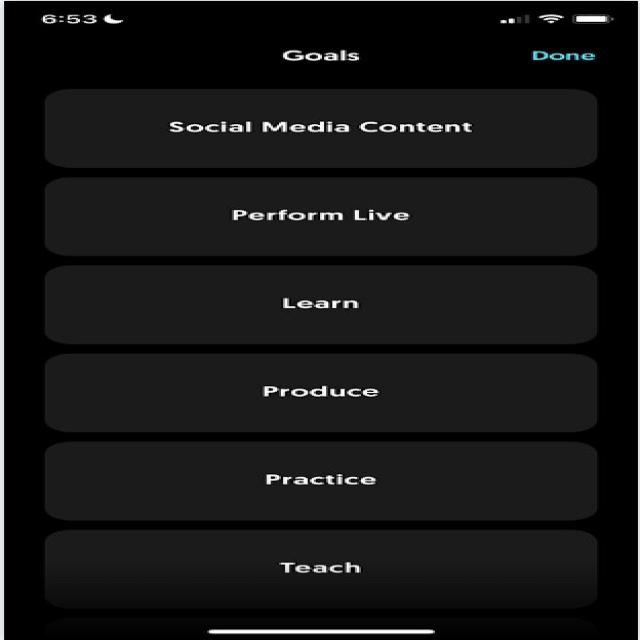column: (14, 80, 626, 640)
row: (24, 522, 617, 632), (27, 346, 607, 436), (27, 259, 617, 346), (27, 439, 617, 522), (27, 89, 621, 171), (30, 175, 610, 257)
text: (141, 108, 509, 145), (203, 202, 453, 228), (235, 462, 418, 497), (256, 278, 387, 318), (235, 378, 427, 405), (244, 550, 389, 578), (270, 40, 390, 66), (528, 38, 629, 68)
